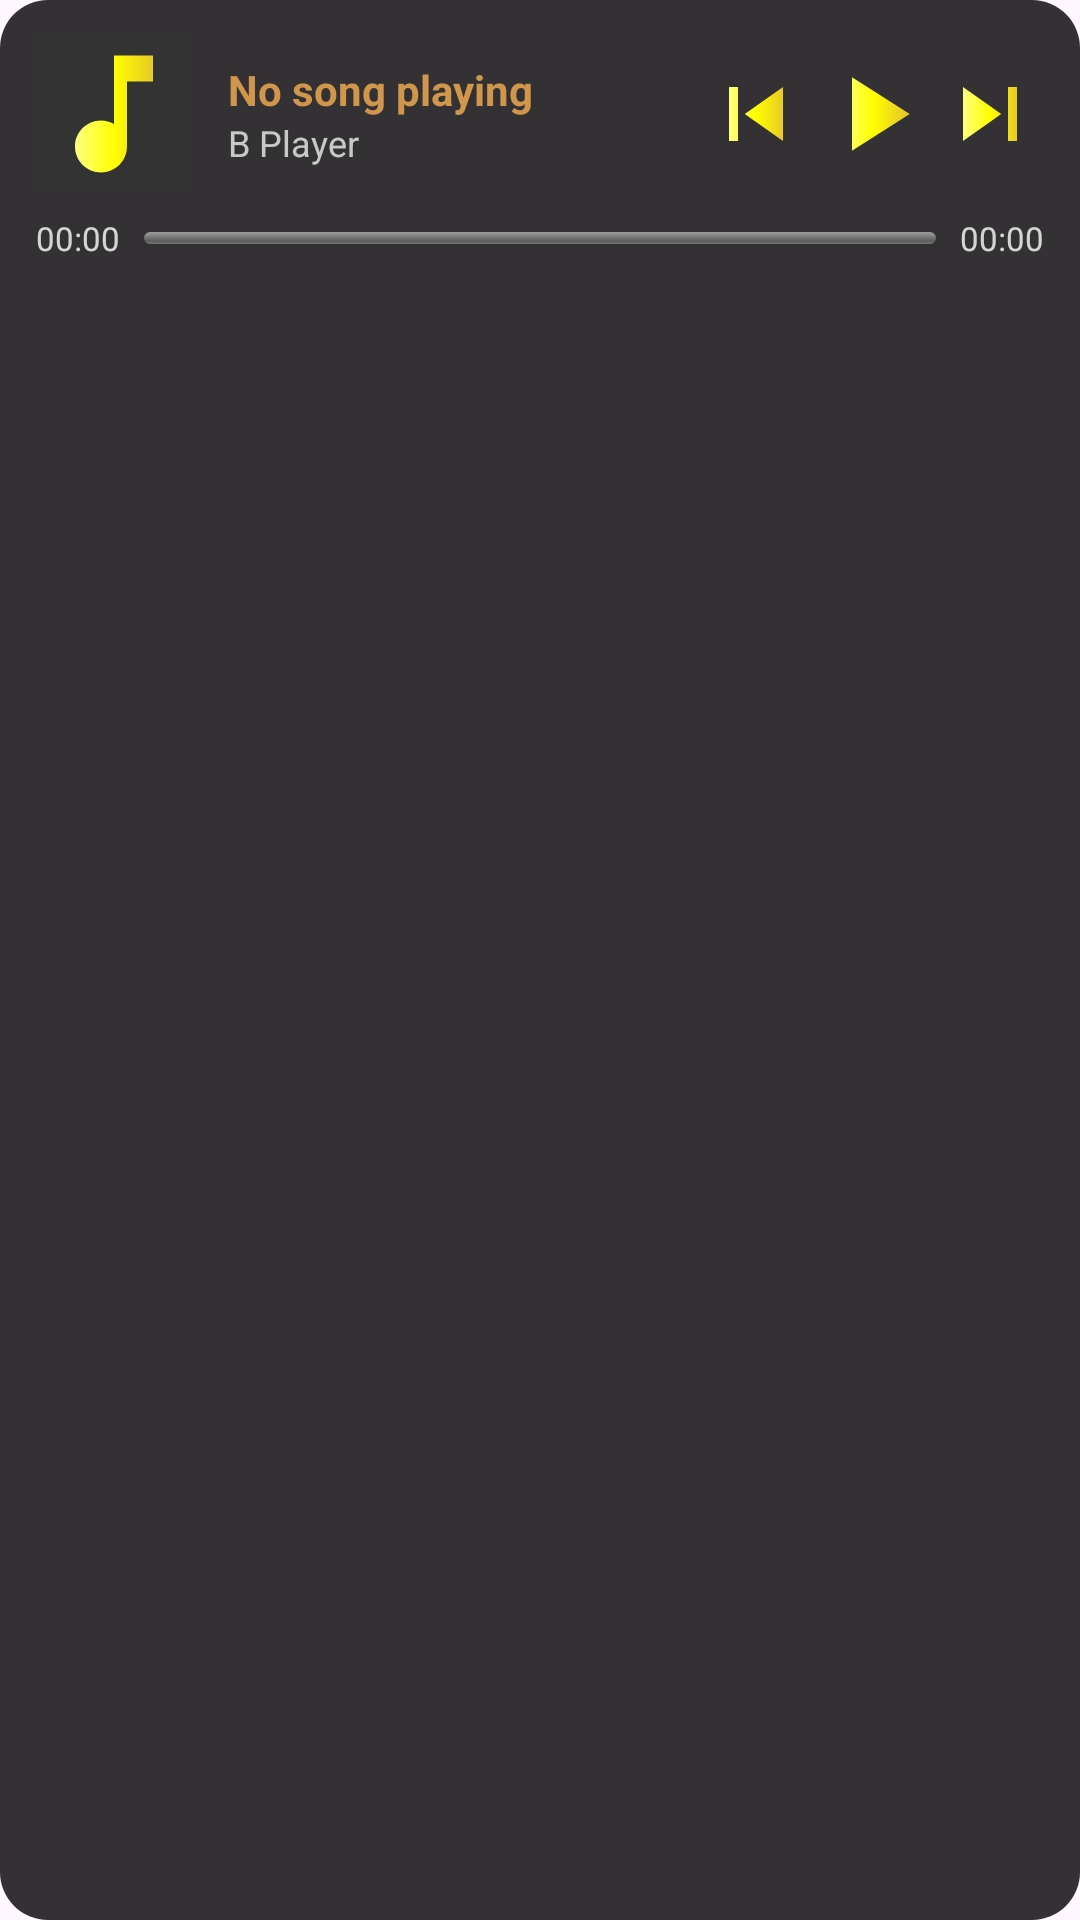

Icons on this 1080×1920 Android screen, each with the point to tap as (x=x, y=y):
music note: (x=114, y=114)
skip next: (x=990, y=114)
skip previous: (x=756, y=114)
